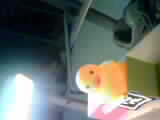duck: (66, 59, 125, 99)
